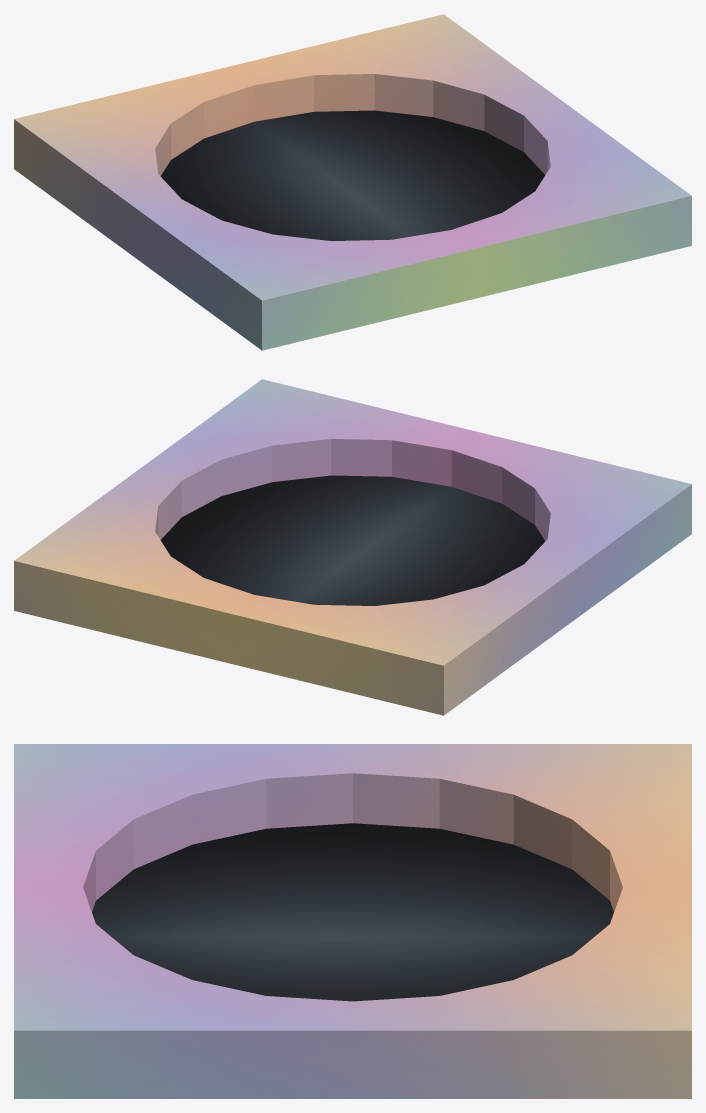
The model's file is Frame.fbx.
3 views of the same model, one above another, from view 1: azimuth 30°, elevation 25°; view 2: azimuth 150°, elevation 25°; view 3: azimuth 270°, elevation 25° (orthographic). The views are drawn at different scales.
Parts seen in each view (by area): view 1: Frame, InsideFrame; view 2: Frame, InsideFrame; view 3: Frame, InsideFrame.
Boxes of the visible parts, bbox=[...] form: Frame: bbox=[14, 14, 691, 350]; InsideFrame: bbox=[160, 110, 545, 240]; Frame: bbox=[14, 379, 691, 715]; InsideFrame: bbox=[160, 475, 545, 605]; Frame: bbox=[14, 744, 691, 1098]; InsideFrame: bbox=[92, 823, 613, 1001].
Size of the model in its own units: 360 by 40 by 360.
